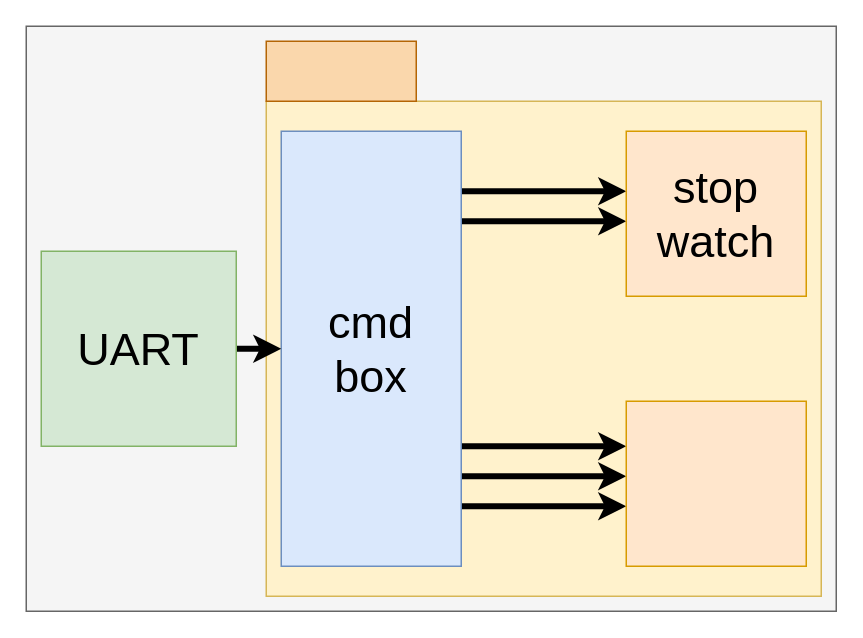
The diagram is 863 pixels wide and 638 high, and some of its shapes have lost their labels. The shapes that lost their labels are listed below. From the top down, each one's centre as x and y in pixels, then its label:
At point 340,70: "my_watch".
At point 715,483: "watch".
